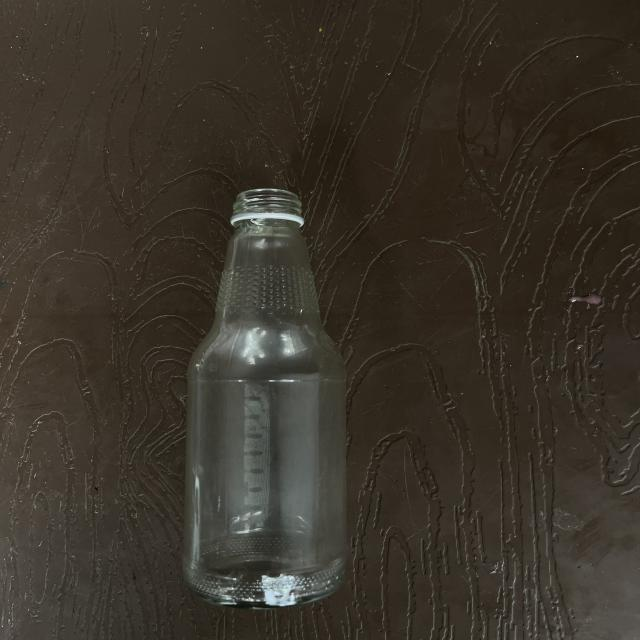Glass_Bottle: (184, 189, 347, 607)
